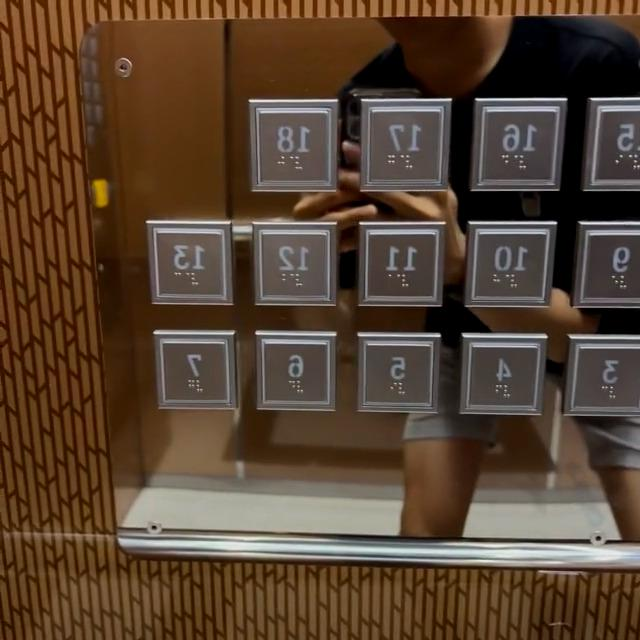button: (241, 100, 337, 199), (471, 97, 567, 191), (359, 100, 449, 192), (463, 222, 556, 309), (353, 224, 443, 310), (148, 330, 236, 415), (253, 222, 336, 312), (461, 335, 543, 418), (257, 330, 332, 419), (567, 335, 640, 422), (152, 223, 231, 303), (353, 339, 438, 413), (572, 218, 640, 301)
